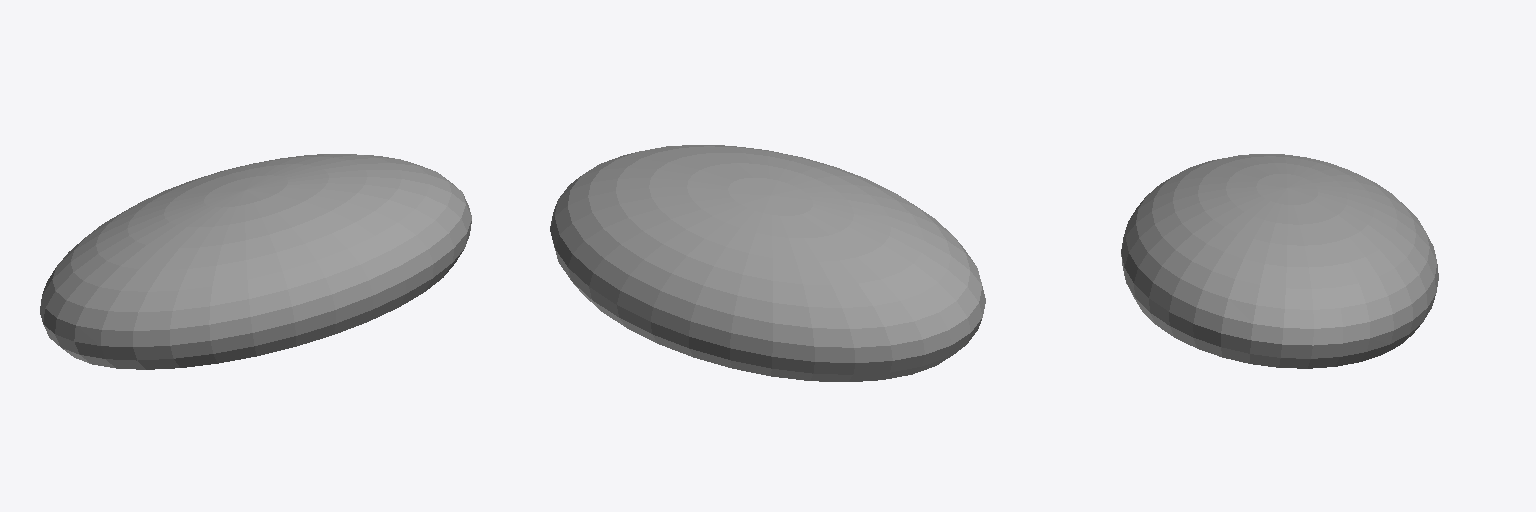
Rendered from StreetLampfoco.obj.
3 views of the same model, side by side, from view 1: azimuth 30°, elevation 25°; view 2: azimuth 150°, elevation 25°; view 3: azimuth 270°, elevation 25° (orthographic).
Visible parts, largest first — view 1: LightPart_Sphere.000_LightPart_Sphere.002; view 2: LightPart_Sphere.000_LightPart_Sphere.002; view 3: LightPart_Sphere.000_LightPart_Sphere.002.
Boxes of the visible parts, x1,y1,x2,y2 form: LightPart_Sphere.000_LightPart_Sphere.002: [40, 154, 471, 369]; LightPart_Sphere.000_LightPart_Sphere.002: [550, 145, 985, 381]; LightPart_Sphere.000_LightPart_Sphere.002: [1121, 154, 1438, 368].
Size of the model in its own units: 0.0916 by 0.0295 by 0.0624.